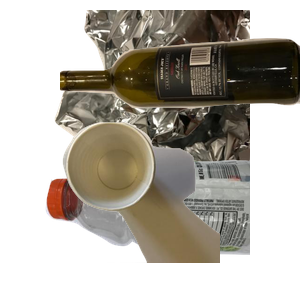glass: (60, 36, 300, 147)
metal: (52, 10, 292, 190)
plastic: (43, 152, 283, 300)
trash: (60, 120, 300, 300)
